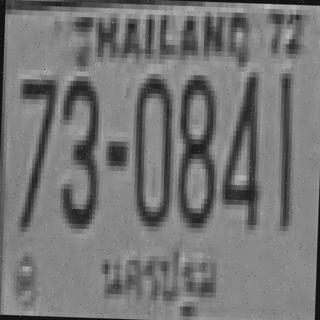N00: (130, 73, 173, 227)
N01: (274, 70, 294, 228)
N03: (56, 75, 100, 224)
N04: (218, 69, 262, 227)
N07: (12, 74, 56, 227)
N08: (174, 70, 218, 223)
P28: (96, 244, 220, 320)
